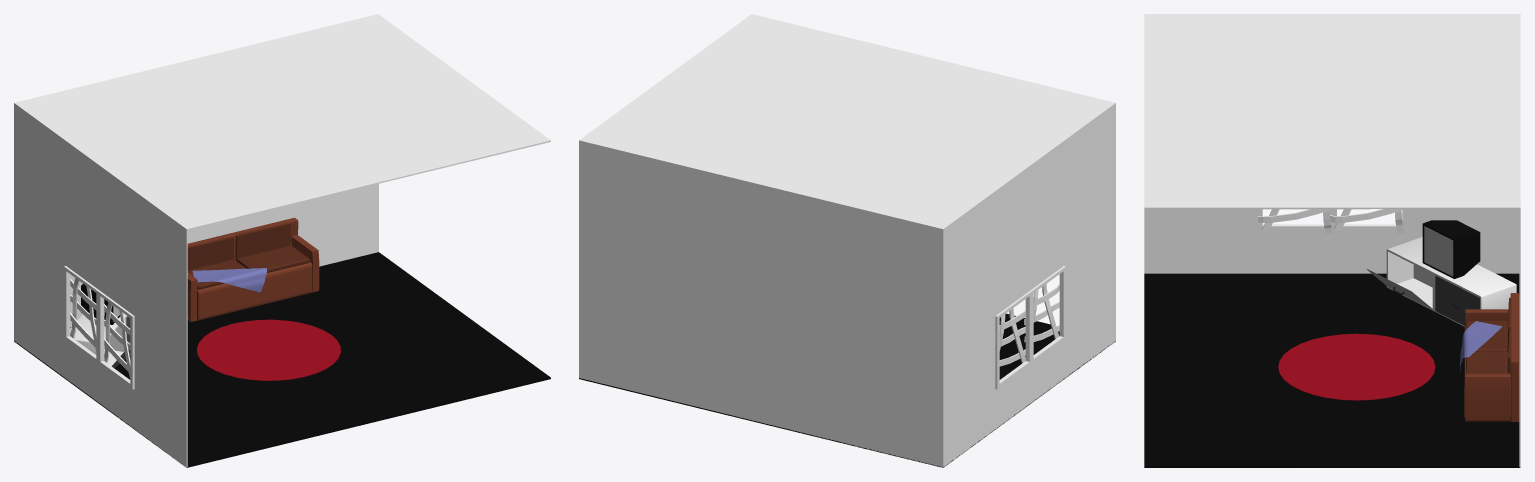
The model's file is room.glb.
3 views of the same model, side by side, from view 1: azimuth 30°, elevation 25°; view 2: azimuth 150°, elevation 25°; view 3: azimuth 270°, elevation 25° (orthographic). The views are drawn at different scales.
Visible parts, largest first — view 1: Parede, Piso, Tapete, SofaBase, JanelaMarmore, Almofada3, Toalha, Almofada, Almofada4, SofaBracos, Madeira2, Madeira (+2 smaller); view 2: Parede, JanelaMarmore, Piso, Madeira, Madeira2; view 3: Parede, Piso, Tapete, Rack, SofaBracos, Tv, Tampa, SofaCostas, Cubo.014, JanelaMarmore, Almofada, Toalha (+4 smaller).
Boxes of the visible parts, box(x1,y1,x2,y2) form: Parede: box(14, 14, 550, 467); Piso: box(14, 252, 550, 467); Tapete: box(197, 319, 340, 380); SofaBase: box(197, 262, 312, 320); JanelaMarmore: box(64, 266, 134, 389); Almofada3: box(235, 222, 290, 260); Toalha: box(192, 268, 266, 292); Almofada: box(236, 245, 309, 272); Almofada4: box(187, 236, 233, 270); SofaBracos: box(187, 235, 319, 321); Madeira2: box(70, 278, 104, 354); Madeira: box(104, 302, 130, 378); Parede: box(579, 14, 1115, 467); JanelaMarmore: box(995, 266, 1065, 389); Piso: box(579, 313, 1115, 467); Madeira: box(1024, 284, 1059, 342); Madeira2: box(999, 308, 1025, 366); Parede: box(1144, 14, 1520, 467); Piso: box(1144, 273, 1520, 467); Tapete: box(1278, 333, 1435, 400); Rack: box(1386, 237, 1516, 326); SofaBracos: box(1465, 309, 1510, 421); Tv: box(1422, 220, 1480, 278); Tampa: box(1435, 275, 1479, 325); SofaCostas: box(1510, 293, 1519, 421); Cubo.014: box(1424, 226, 1453, 276); JanelaMarmore: box(1257, 209, 1407, 230); Almofada: box(1466, 351, 1507, 373); Toalha: box(1460, 321, 1502, 371).
Bounding box in the file's own units: 4.9 × 3.05 × 4.
